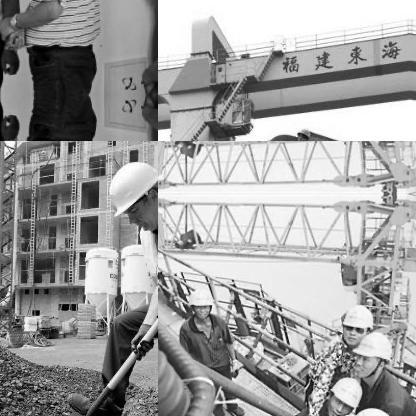Helmet: (101, 148, 157, 234), (348, 328, 394, 376), (324, 372, 365, 415), (334, 302, 374, 344), (184, 284, 216, 322), (294, 126, 309, 140)
